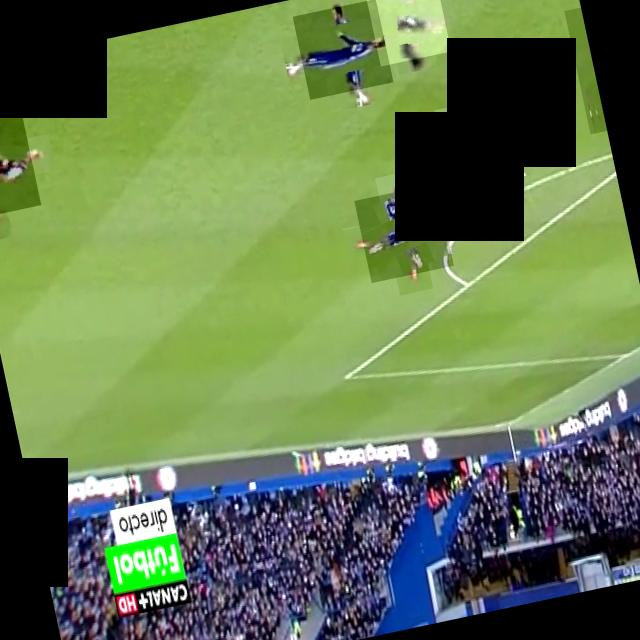referee: (365, 0, 450, 65)
soccer-player: (412, 117, 518, 223), (353, 183, 453, 283), (292, 0, 393, 99), (564, 7, 607, 134), (0, 107, 41, 219)
